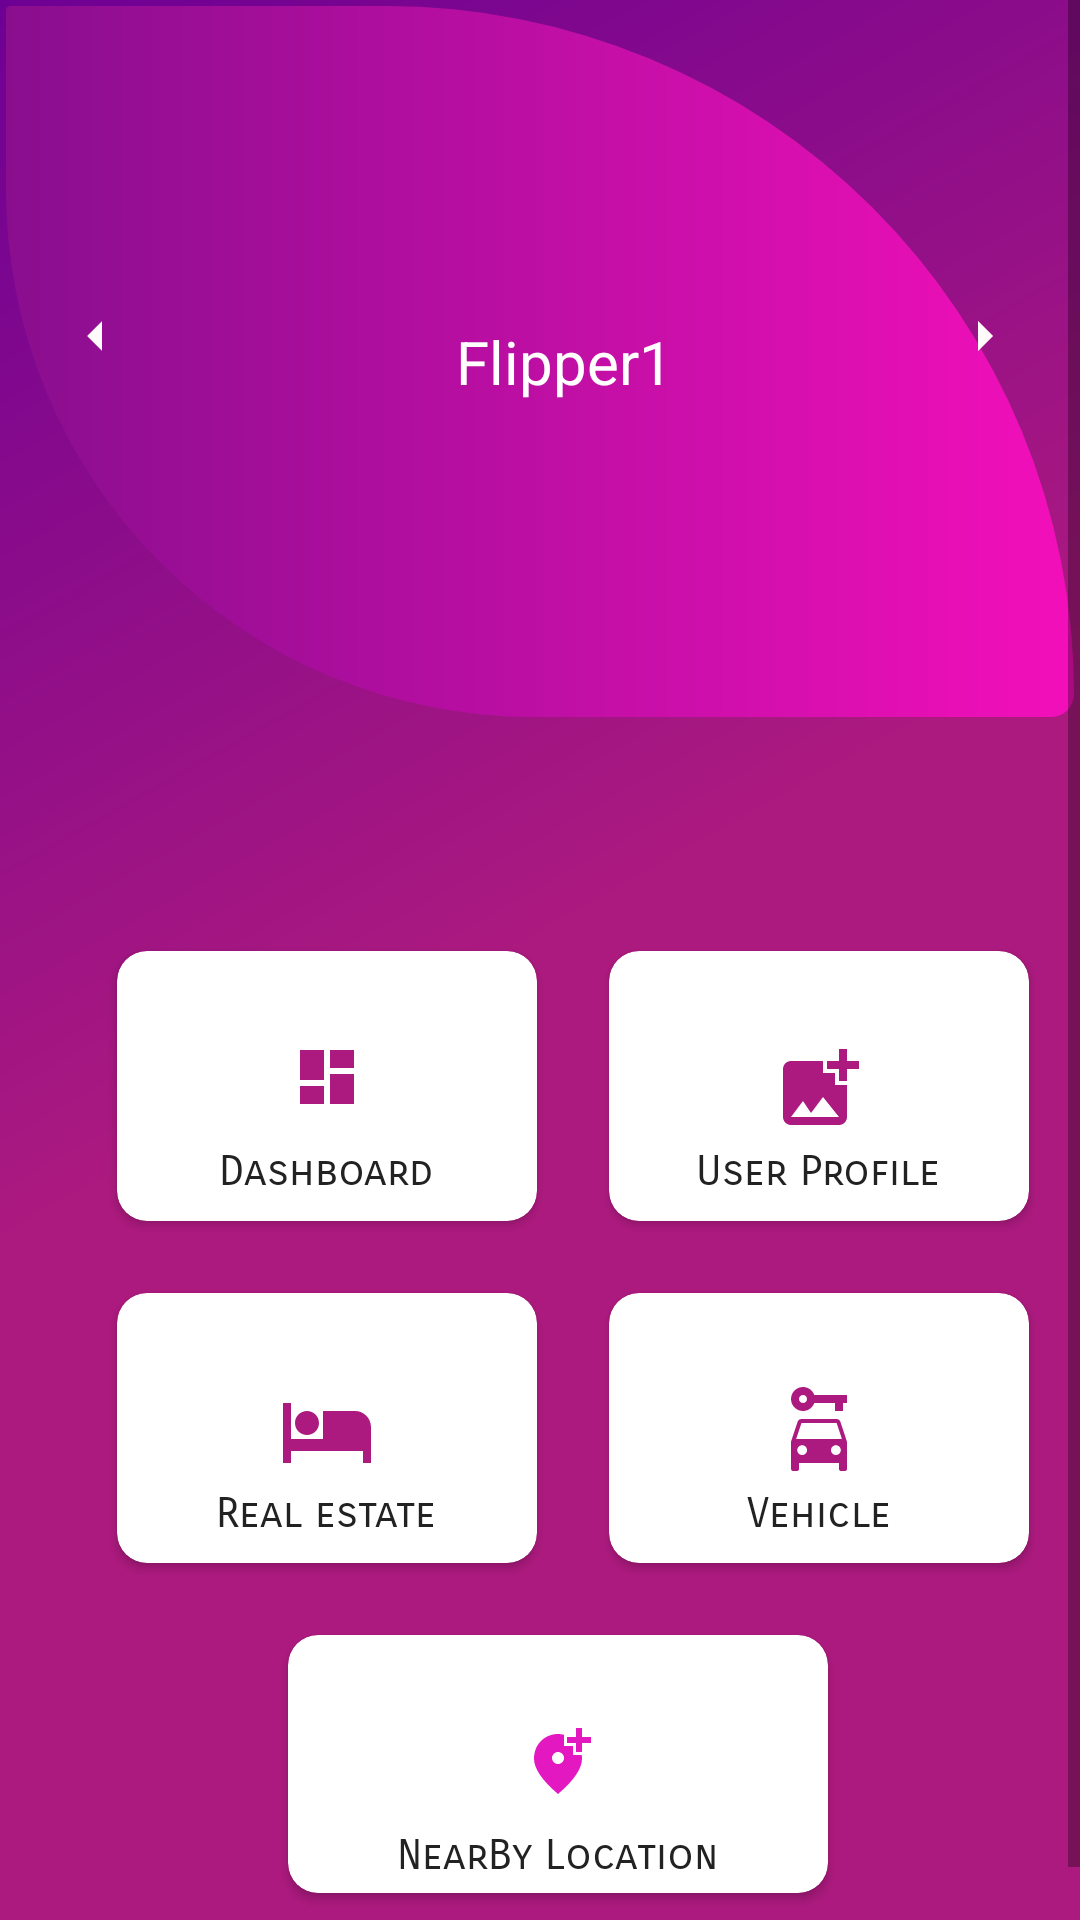

Icon click points for this 1080x1920 phone screenshot, format (x=x, y=y):
add photo: (x=821, y=1087)
car: (x=819, y=1429)
hotel: (x=327, y=1433)
left: (x=94, y=336)
